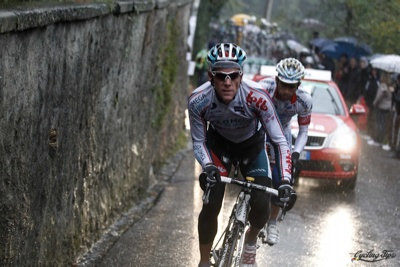helmet: (204, 40, 248, 100), (274, 53, 306, 100)
